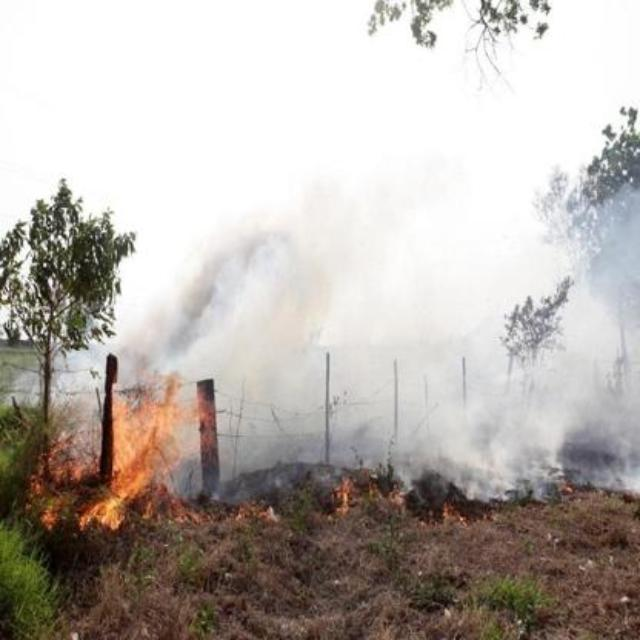Fire: (34, 364, 215, 540), (326, 472, 406, 516), (216, 486, 278, 528), (430, 489, 472, 527), (552, 476, 574, 496)
Smoke: (148, 135, 640, 389), (218, 393, 636, 475)
